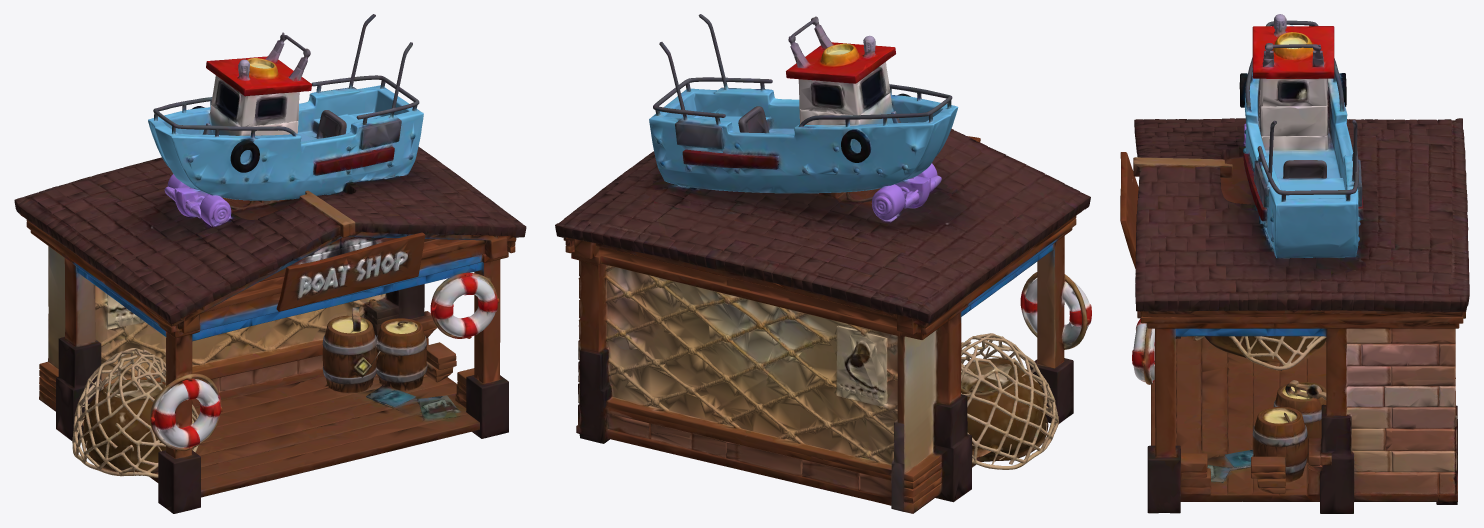
Rendered from BOAT_SHOOP-9dab28cc.glb.
3 renders of one model, left to right at view 1: azimuth 30°, elevation 25°; view 2: azimuth 150°, elevation 25°; view 3: azimuth 270°, elevation 25°, orthographic. The views are drawn at different scales.
Visible parts, largest first — view 1: tripo_node_6c56f1eb-82b3-4f9a-8c7b-38b7046a81a1; view 2: tripo_node_6c56f1eb-82b3-4f9a-8c7b-38b7046a81a1; view 3: tripo_node_6c56f1eb-82b3-4f9a-8c7b-38b7046a81a1.
Boxes of the visible parts, box(x1,y1,x2,y2) form: tripo_node_6c56f1eb-82b3-4f9a-8c7b-38b7046a81a1: box(14, 14, 526, 513); tripo_node_6c56f1eb-82b3-4f9a-8c7b-38b7046a81a1: box(555, 14, 1091, 513); tripo_node_6c56f1eb-82b3-4f9a-8c7b-38b7046a81a1: box(1120, 14, 1469, 513).
Size of the model in its own units: 0.9792 by 0.9252 by 0.7404.
1 material, 1 textured.
